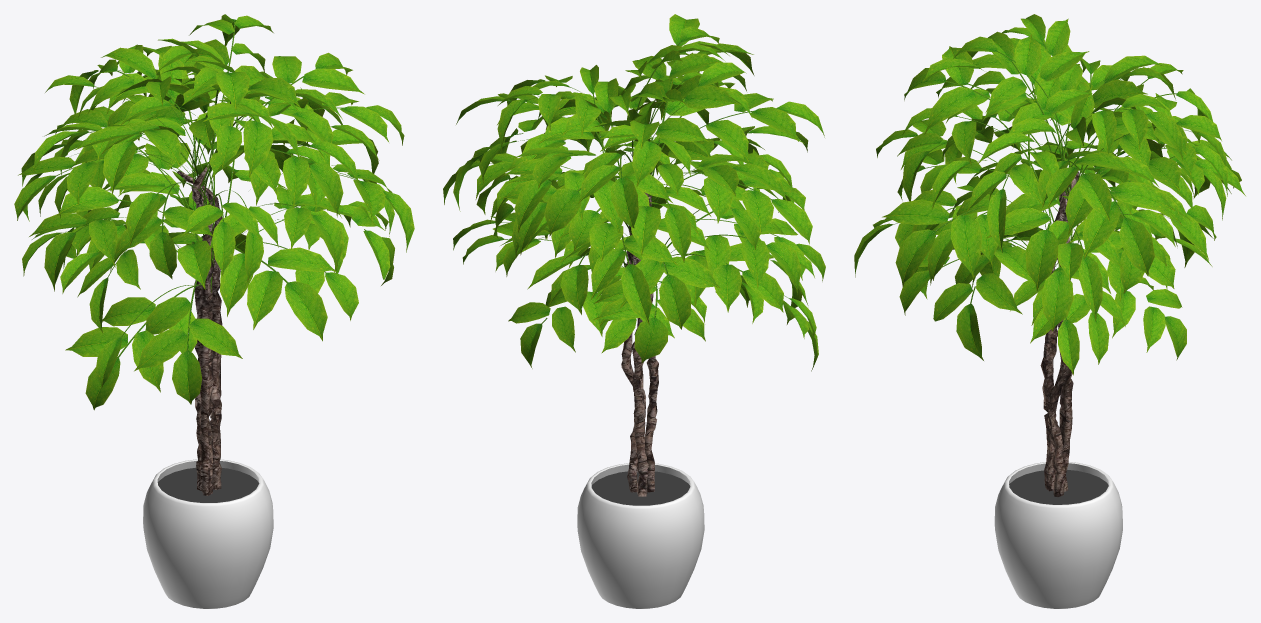
3 views of the same model, side by side, from view 1: azimuth 30°, elevation 25°; view 2: azimuth 150°, elevation 25°; view 3: azimuth 270°, elevation 25° (orthographic). The views are drawn at different scales.
Visible parts, largest first — view 1: tree___GAME_polySurface706; view 2: tree___GAME_polySurface706; view 3: tree___GAME_polySurface706.
Part boxes in pixels (x1,y1,x2,y2): tree___GAME_polySurface706: (14, 14, 414, 608); tree___GAME_polySurface706: (443, 14, 825, 608); tree___GAME_polySurface706: (854, 14, 1245, 608).
Size of the model in its own units: 16.79 by 24.58 by 15.83.
4 materials, 2 textured.
